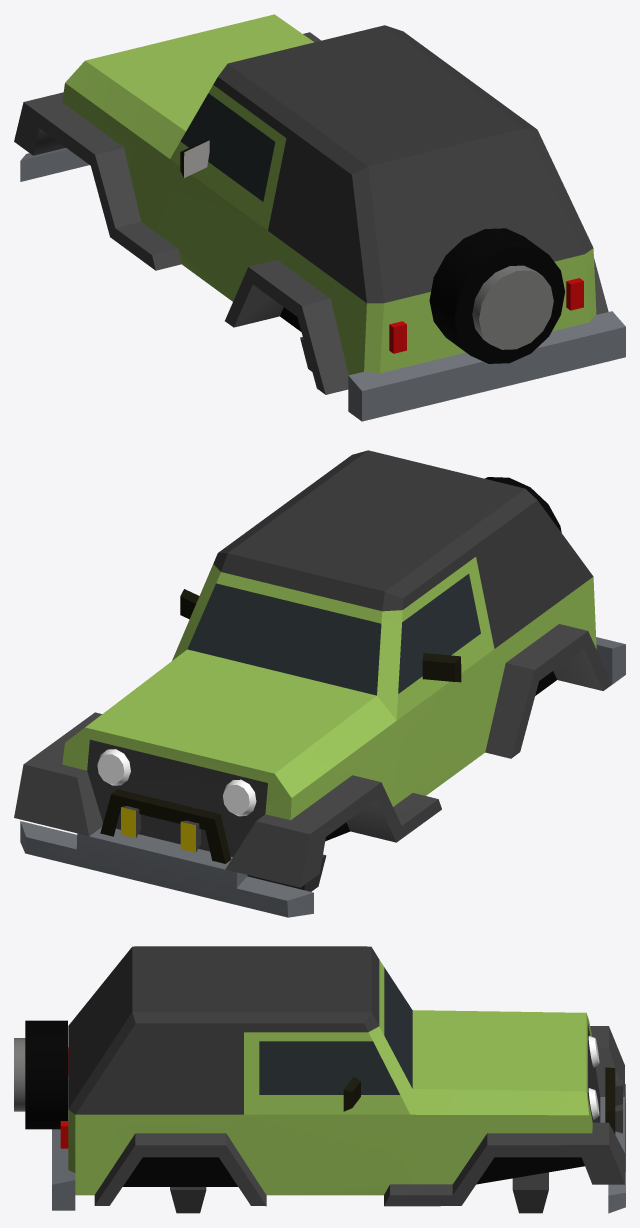
The model's file is jeep.fbx.
3 renders of one model, top to bottom at view 1: azimuth 30°, elevation 25°; view 2: azimuth 150°, elevation 25°; view 3: azimuth 270°, elevation 25°, orthographic. The views are drawn at different scales.
Visible parts, largest first — view 1: jeep; view 2: jeep; view 3: jeep.
Boxes of the visible parts, x1=… form: jeep: x1=14, y1=14, x2=625, y2=421; jeep: x1=14, y1=450, x2=625, y2=917; jeep: x1=14, y1=946, x2=625, y2=1213.
Bounding box in the file's own units: 215 × 159 × 457.
